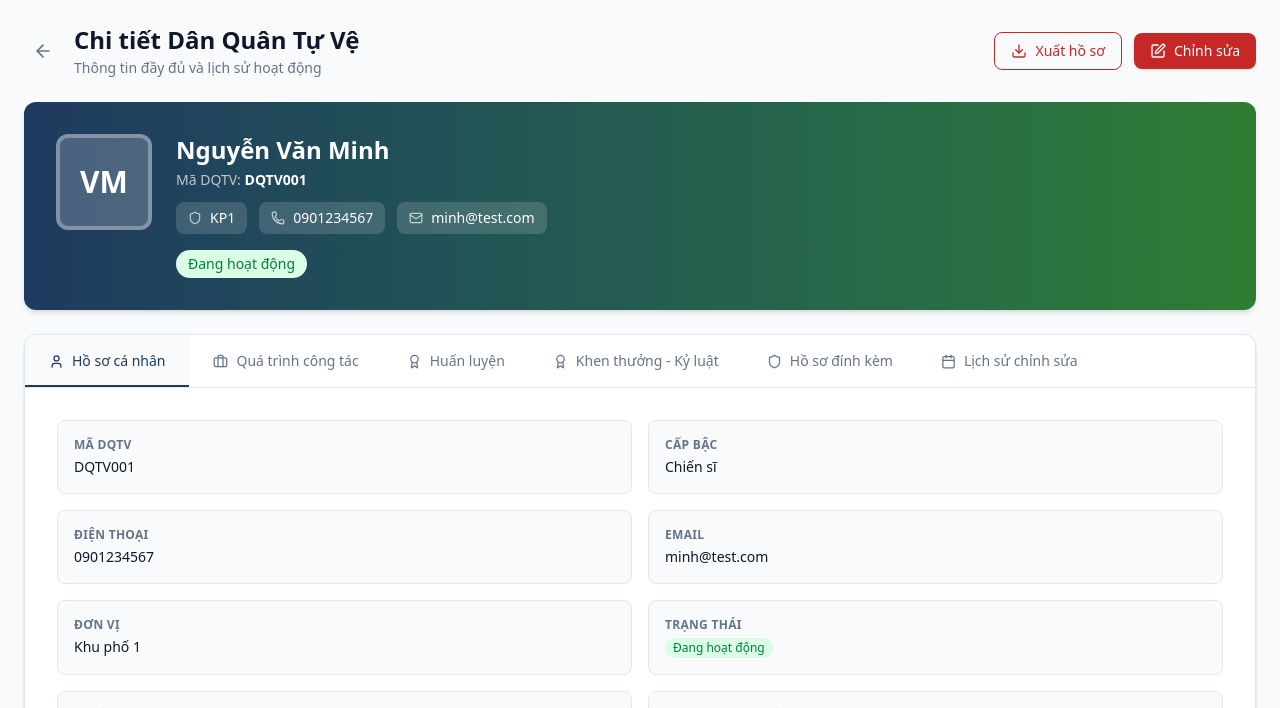
MilitiaProfilePage › Training tab › totalDays < 15 shows red Chưa đạt badge
Expected: the heading "Nguyễn Văn Minh" is shown, [176,133,389,166]
Click the button with test id "tab-training" at (456,361), box [383,335,529,387]
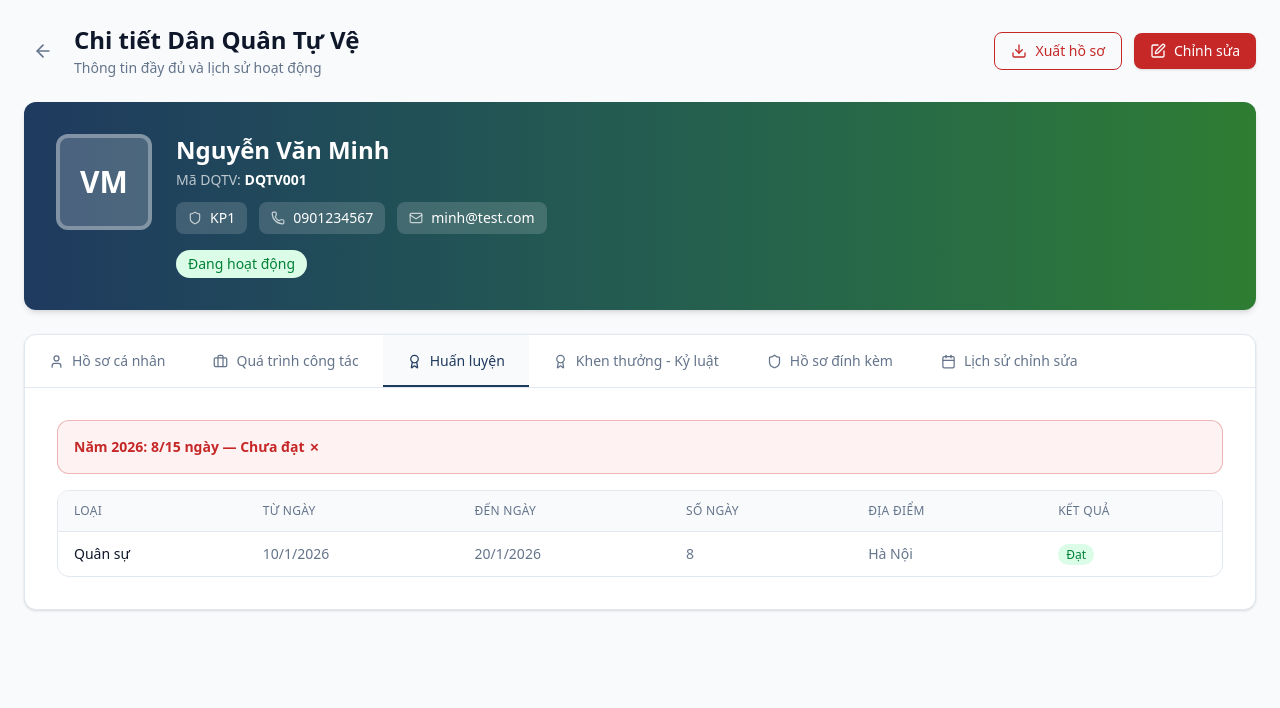
Now the text with test id "compliance-badge" shows "Chưa đạt", box [240,437,321,456]
